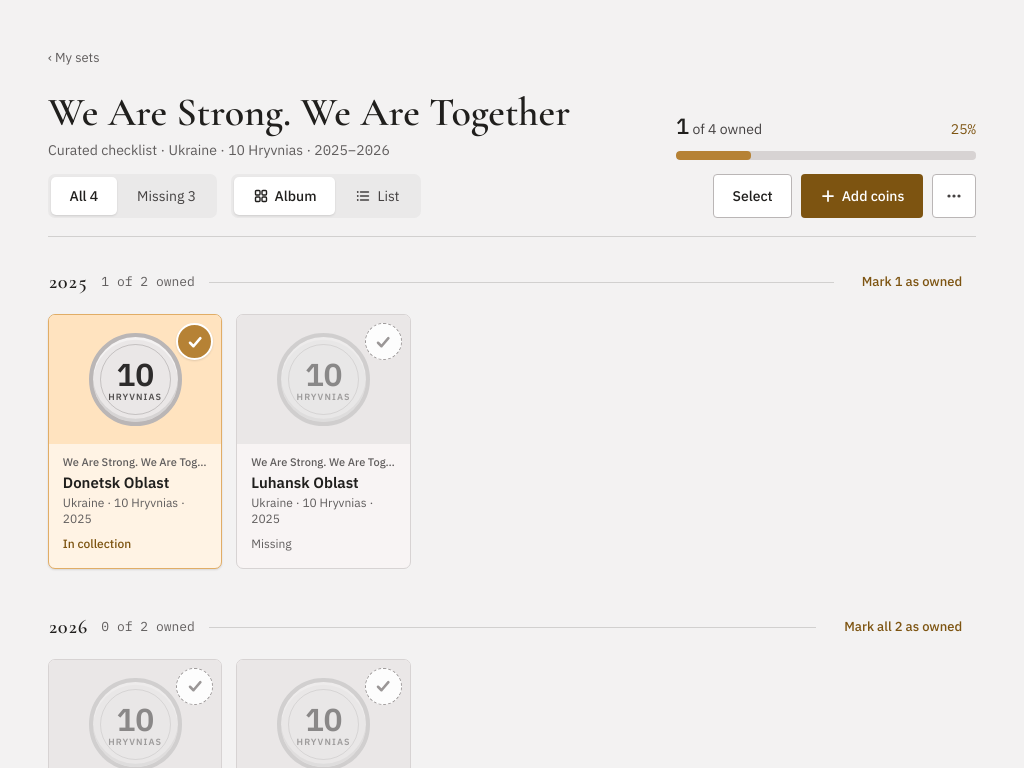
Test: SetEditorPage: Album default, views and year groups › view is kept in the URL (replaceState, never a router push) › keeps the Missing filter and the progress when switching views
The image size is (1024, 768).
Click the button with test id "set-editor-show-missing-toggle": (166, 196) [119, 177, 214, 215]
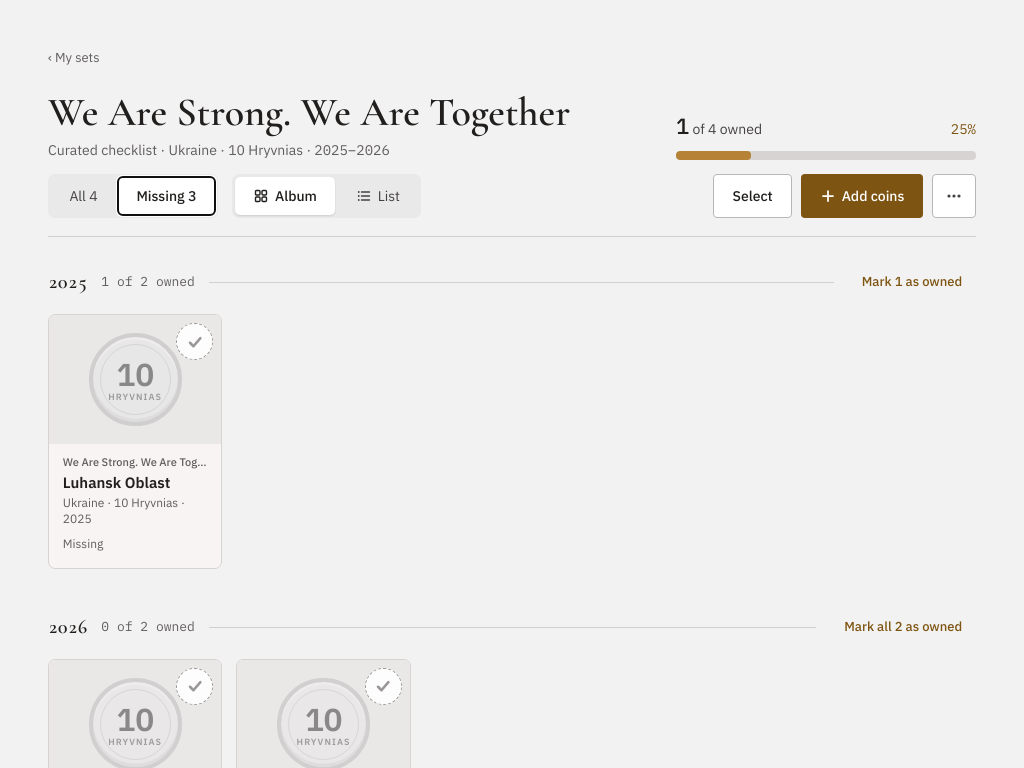
Click the button with test id "set-editor-view-list-toggle": (378, 196) [337, 177, 418, 215]
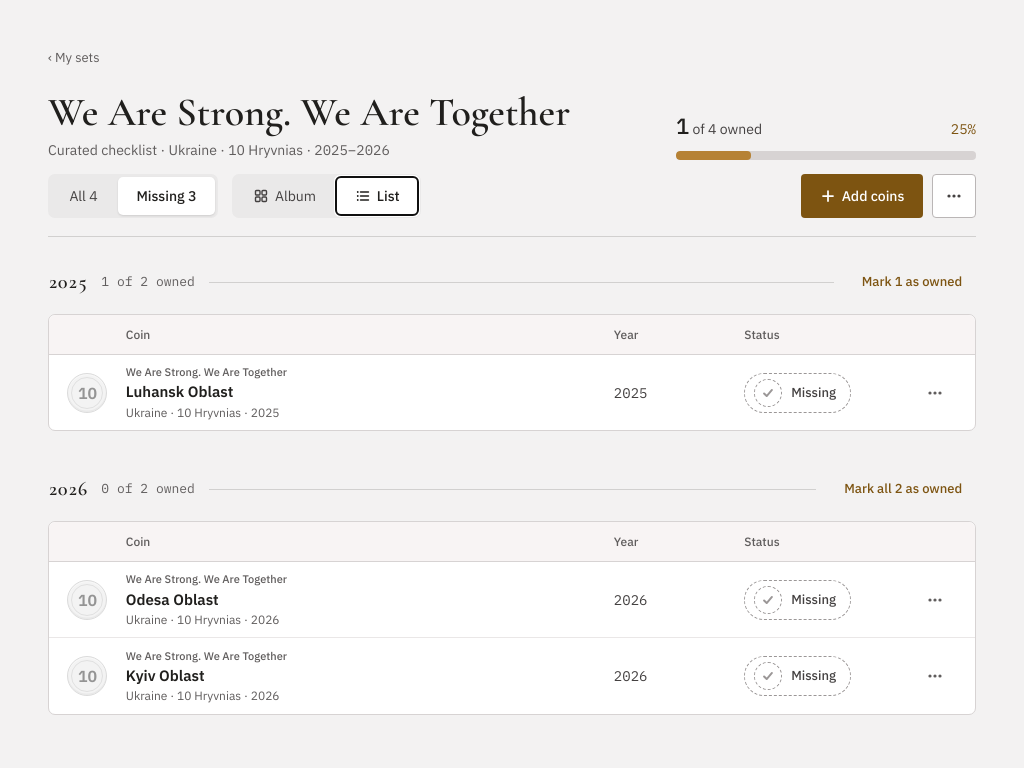
Expected: the text with test id "set-editor-completion" reads "25%", [951, 119, 976, 139]
Expected: the number of list items with test id "set-coin-row" is 3, [49, 355, 975, 430]; [49, 562, 975, 638]; [49, 638, 975, 714]
